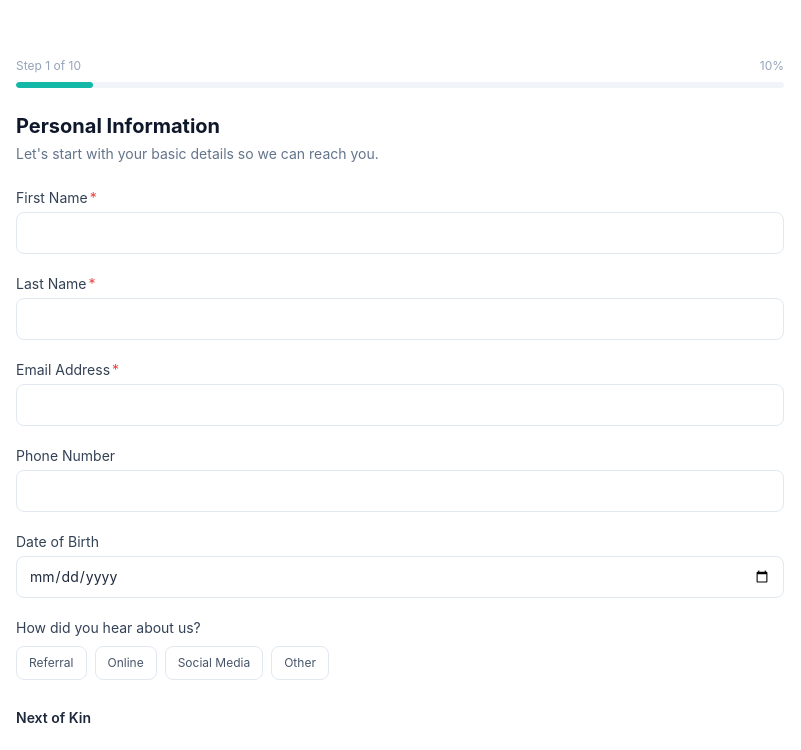
it: Intake Survey Page › allows advancing after required fields are filled
Fill required fields
In the field labelled "First Name*": point(400, 233) x1=16 y1=212 x2=784 y2=254, type "Jane"
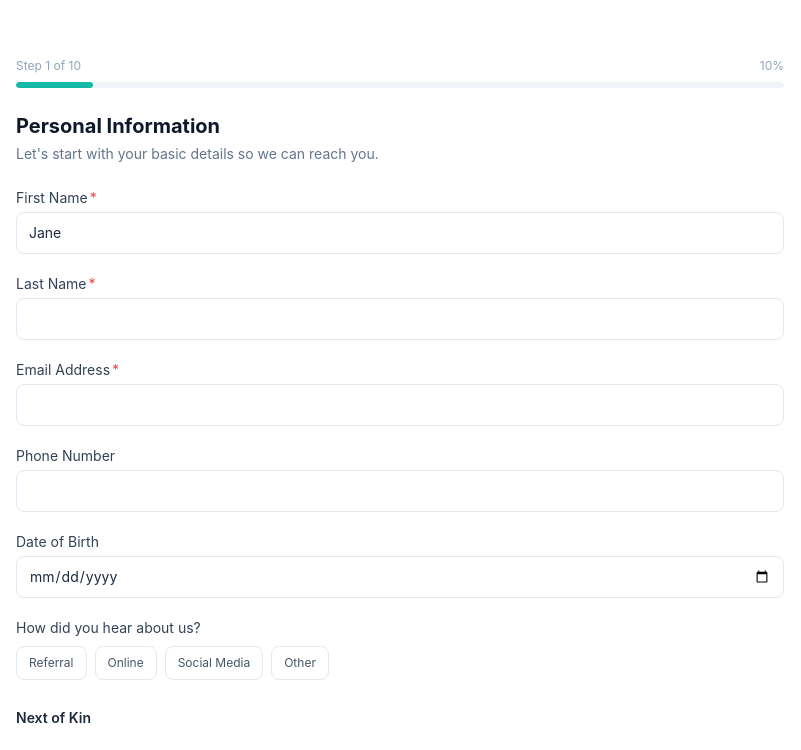
In the field labelled "Last Name*": point(400, 319) x1=16 y1=298 x2=784 y2=340, type "Doe"
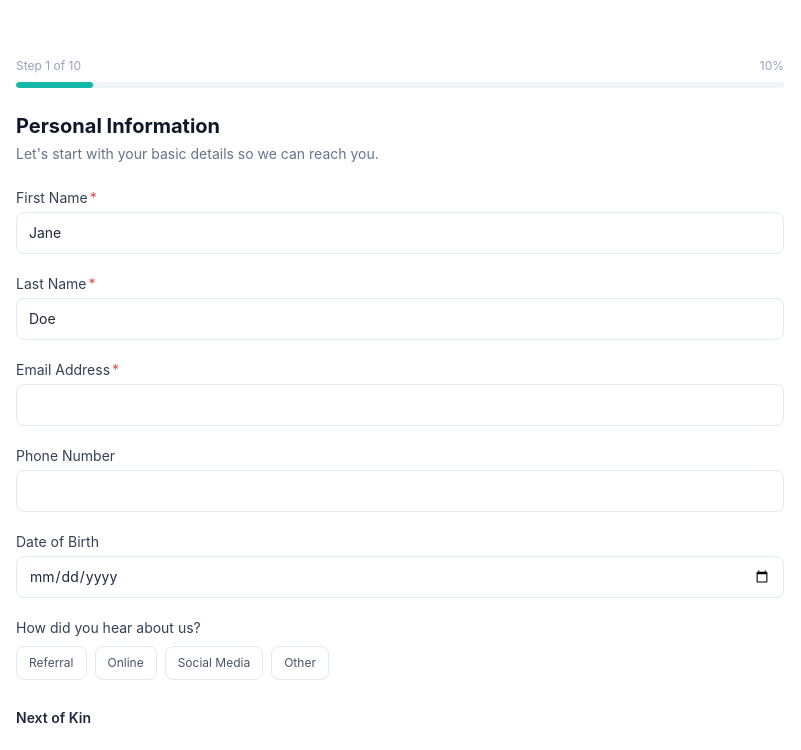
In the field labelled "Email Address*": point(400, 405) x1=16 y1=384 x2=784 y2=426, type "jane@test.com"
(page scrolled)
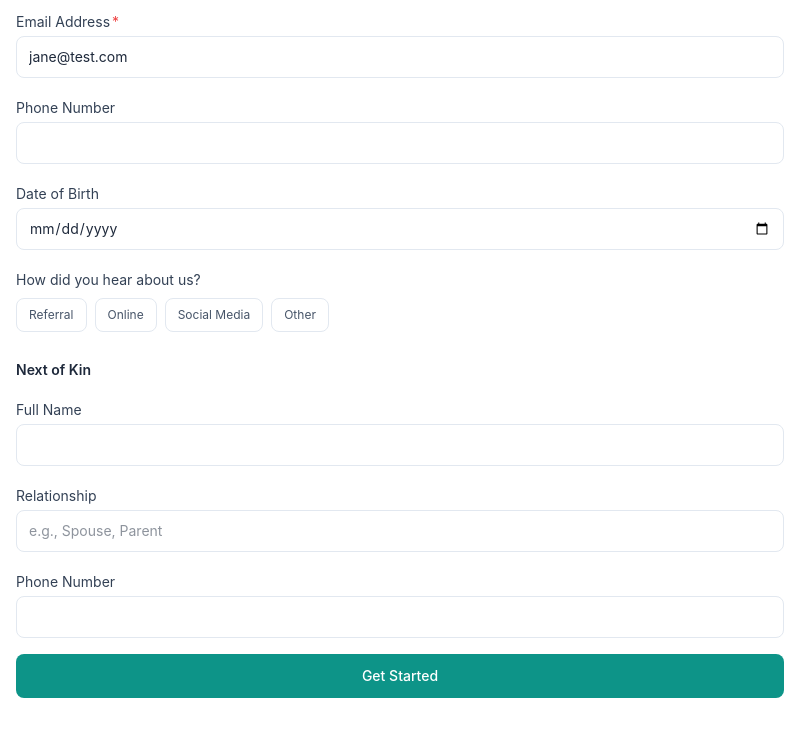
Click Get Started
Click the button "Get Started": point(400, 676) x1=16 y1=654 x2=784 y2=698
(page scrolled)
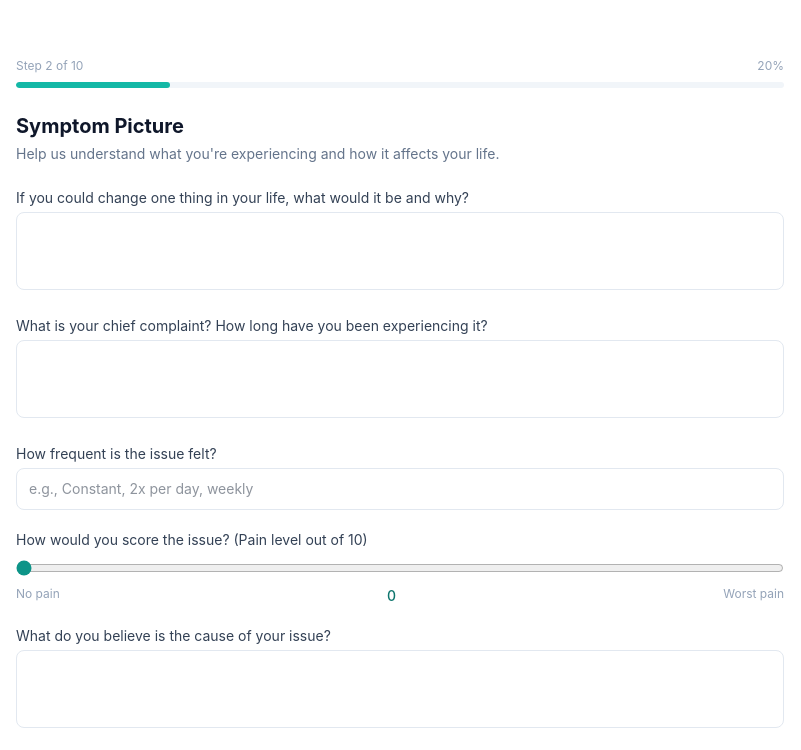
Expected: the text "Step 2 of 10" is shown, x1=16 y1=58 x2=83 y2=74
Expected: the heading "Symptom Picture" is shown, x1=16 y1=114 x2=184 y2=138
